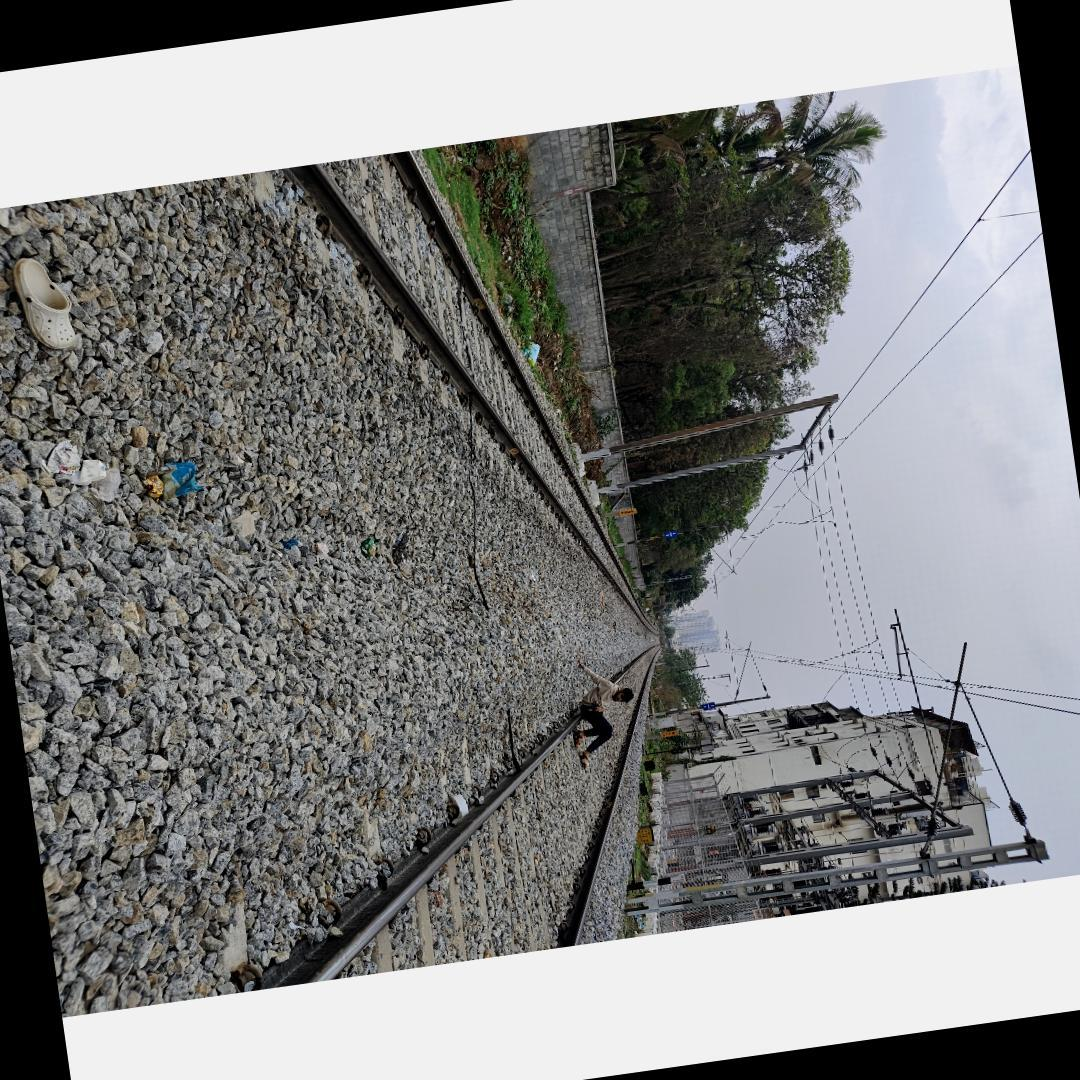sitting: (560, 647, 644, 769)
track: (221, 145, 666, 631), (176, 627, 670, 1000)
